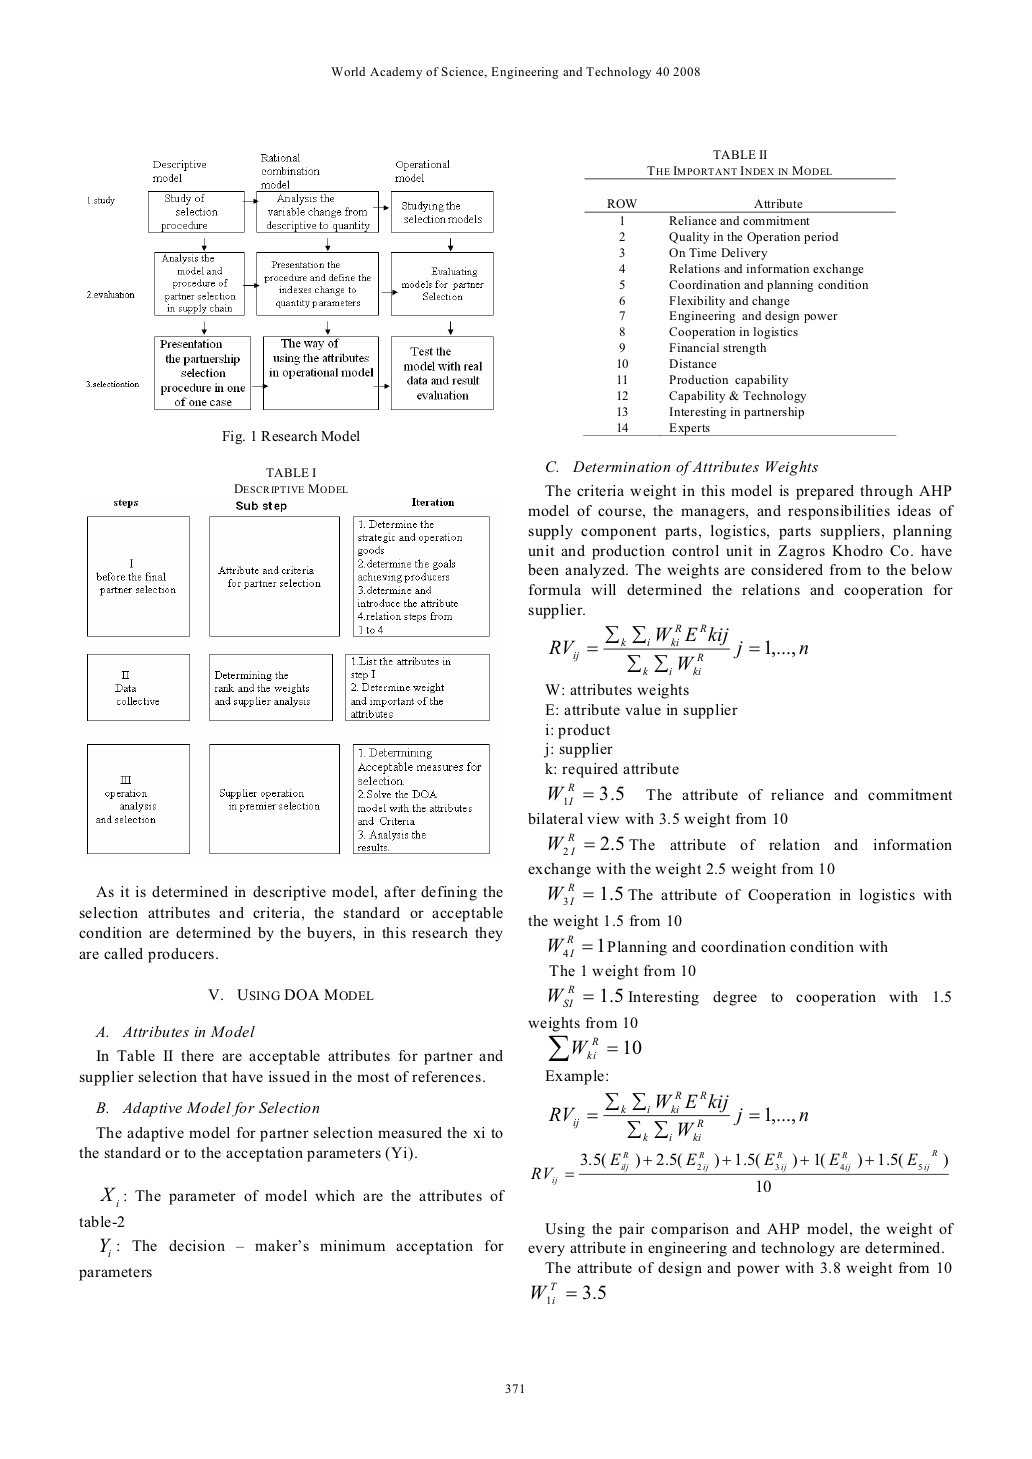Table: (583, 166, 896, 435)
figure: (86, 153, 493, 409), (87, 515, 489, 637), (87, 742, 489, 854), (87, 652, 489, 721)
formula: (531, 1148, 948, 1193), (548, 622, 808, 675), (548, 1090, 808, 1141), (548, 1035, 641, 1060)
